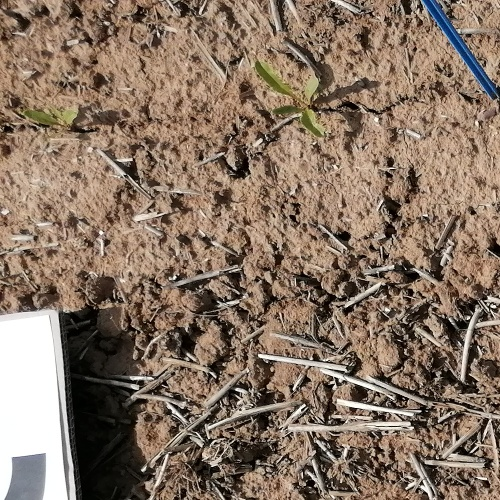beet: (255, 60, 328, 139), (22, 104, 81, 130)
